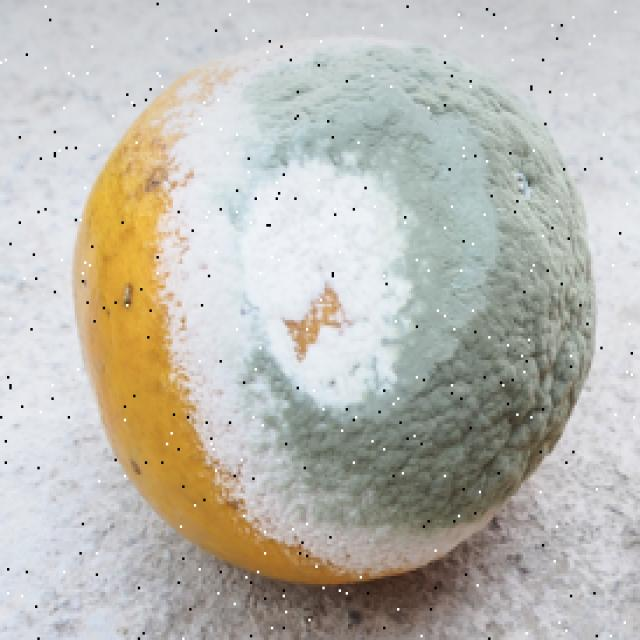Organik: (53, 22, 618, 616)
